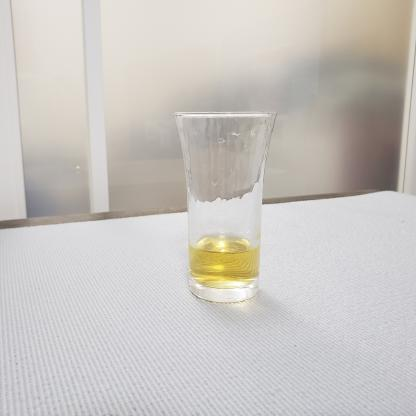glass: (162, 104, 306, 310)
